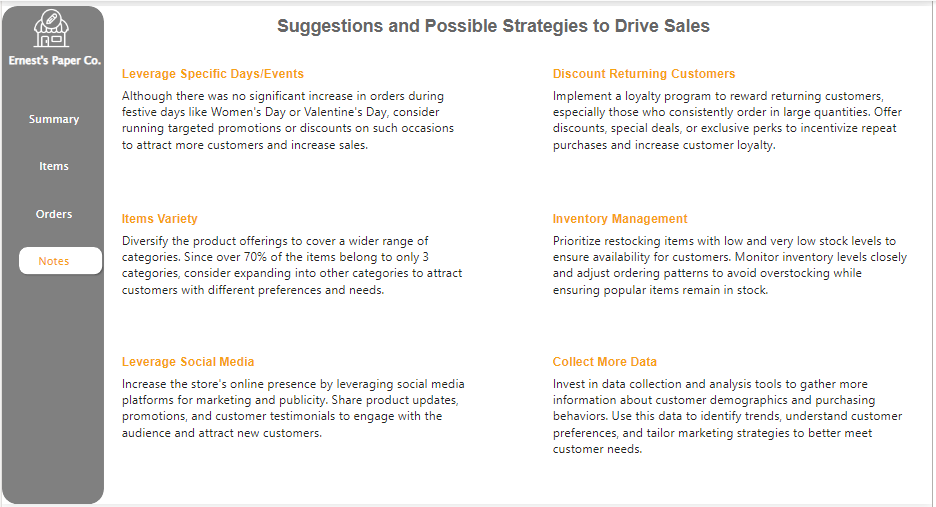

The dashboard page shown, as its layout file describes it:
{"tool":"powerbi","page":{"name":"Notes","canvas":[2800,1500],"ordinal":4},"visuals":[{"type":"shape","box":[0,0,307.1,1500],"z":0},{"type":"image","box":[78,0,146.2,133.2],"z":0,"group":"g1"},{"type":"textbox","box":[16.3,136.4,298.8,100.7],"z":1000,"group":"g1"},{"type":"textbox","box":[355.3,177.6,1044.7,400.4],"z":1000},{"type":"shape","box":[41.4,717.5,268.7,100.4],"z":1000,"group":"g2"},{"type":"textbox","box":[1652.9,177.6,1080.9,400.4],"z":2000},{"type":"actionButton","box":[14.8,292.3,283.5,97.4],"z":2000,"group":"g2"},{"type":"actionButton","box":[14.8,435,283.5,97.4],"z":3000,"group":"g2"},{"type":"textbox","box":[355.3,614.2,1044.7,400.4],"z":3000},{"type":"actionButton","box":[14.8,577.8,283.5,97.4],"z":4000,"group":"g2"},{"type":"textbox","box":[355.3,1044.7,1044.7,400.4],"z":4000},{"type":"textbox","box":[1652.9,614.2,1080.9,400.4],"z":5000},{"type":"actionButton","box":[14.8,720.5,283.5,97.4],"z":5000,"group":"g2"},{"type":"group","id":"g1","title":"Group 1","box":[16.3,0,298.8,237.1],"z":5008,"group":"g2"},{"type":"textbox","box":[1652.9,1044.7,1080.9,400.4],"z":6000},{"type":"textbox","box":[746.7,24.1,1481.3,99.4],"z":7000},{"type":"group","id":"g2","title":"Group 2","box":[14.8,0,300.3,817.9],"z":8000}]}

Visuals, with their boxes on the page's 2800x1500 design canvas (x1, y1, x2, y2). These are canvas units, not pixel positions in the 936x507 screenshot, which may show the page scaled, cropped or inside an application window:
shape: 0, 0, 307, 1500
image: 78, 0, 224, 133
textbox: 16, 136, 315, 237
textbox: 355, 178, 1400, 578
shape: 41, 718, 310, 818
textbox: 1653, 178, 2734, 578
actionButton: 15, 292, 298, 390
actionButton: 15, 435, 298, 532
textbox: 355, 614, 1400, 1015
actionButton: 15, 578, 298, 675
textbox: 355, 1045, 1400, 1445
textbox: 1653, 614, 2734, 1015
actionButton: 15, 720, 298, 818
"Group 1" group: 16, 0, 315, 237
textbox: 1653, 1045, 2734, 1445
textbox: 747, 24, 2228, 124
"Group 2" group: 15, 0, 315, 818
